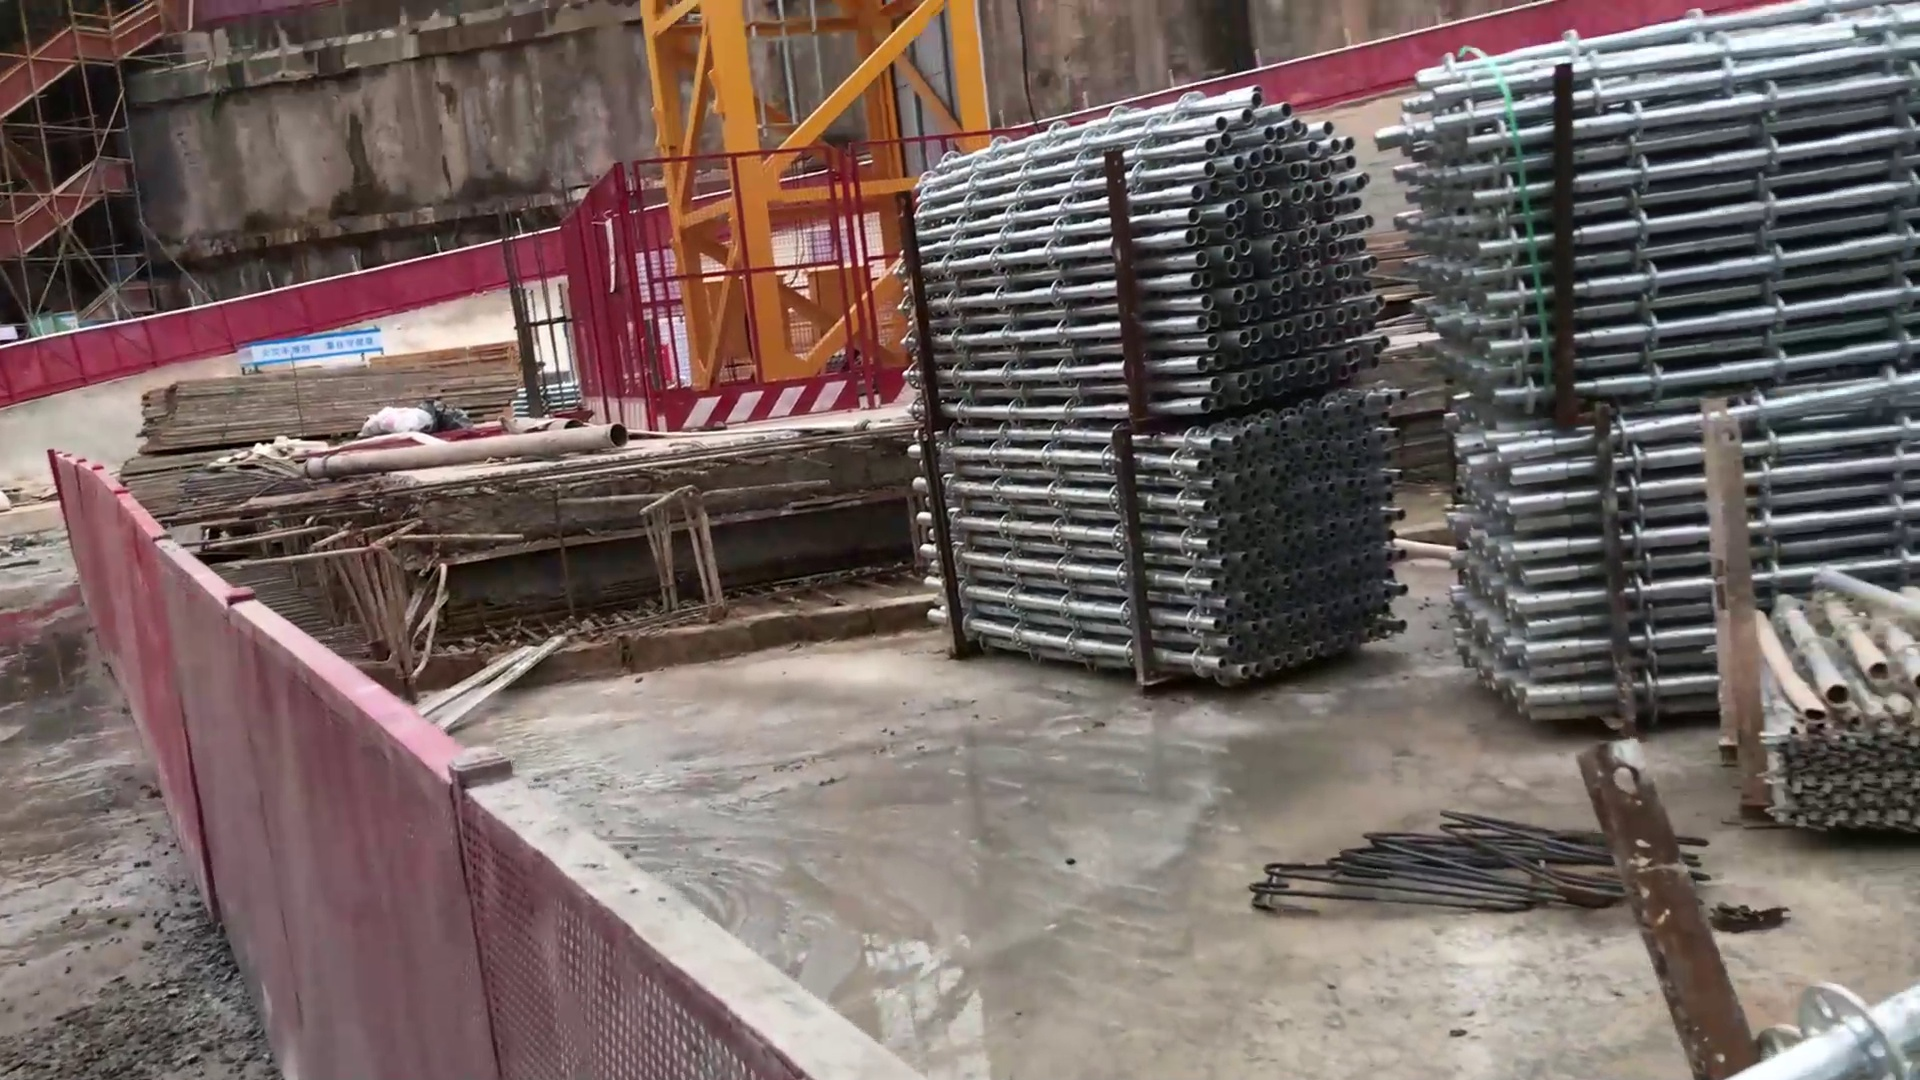fence: (49, 443, 336, 930), (348, 251, 500, 323)
rebar: (1228, 794, 1788, 945), (133, 345, 541, 431)
scaffold: (1429, 5, 1920, 733), (928, 83, 1425, 708), (1741, 575, 1920, 832)
slogan: (222, 334, 389, 363)
